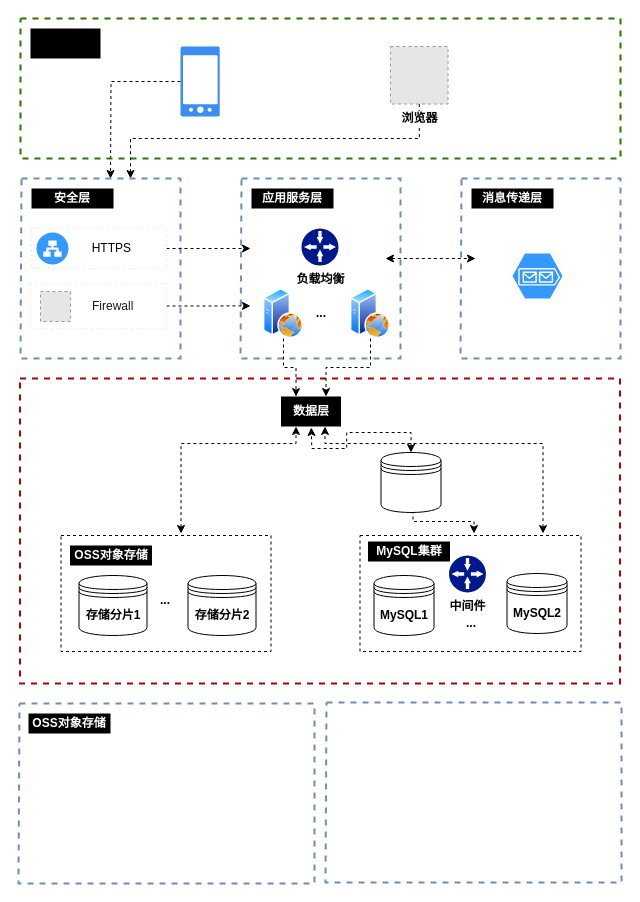
This 640x902 diagram has some shape labels left out. Grey dashed boxes stand in for pictures. The shapes that lost their labels are listed below. From the top down, each one's centre as x and y in pixels, then its label:
[65,43]: 用户界面层
[199,81]: 安卓
[537,275]: 队例
[410,482]: Redis
